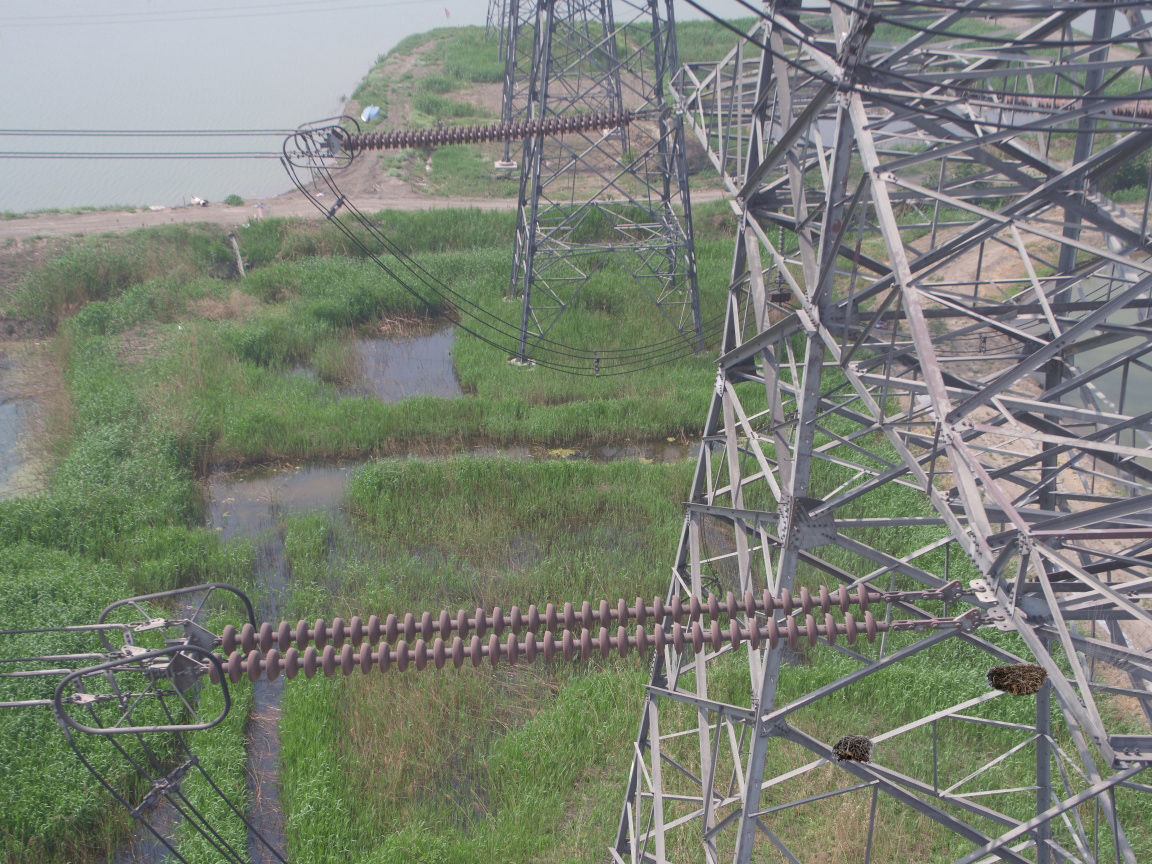nest: (978, 659, 1049, 694), (830, 737, 876, 765)
